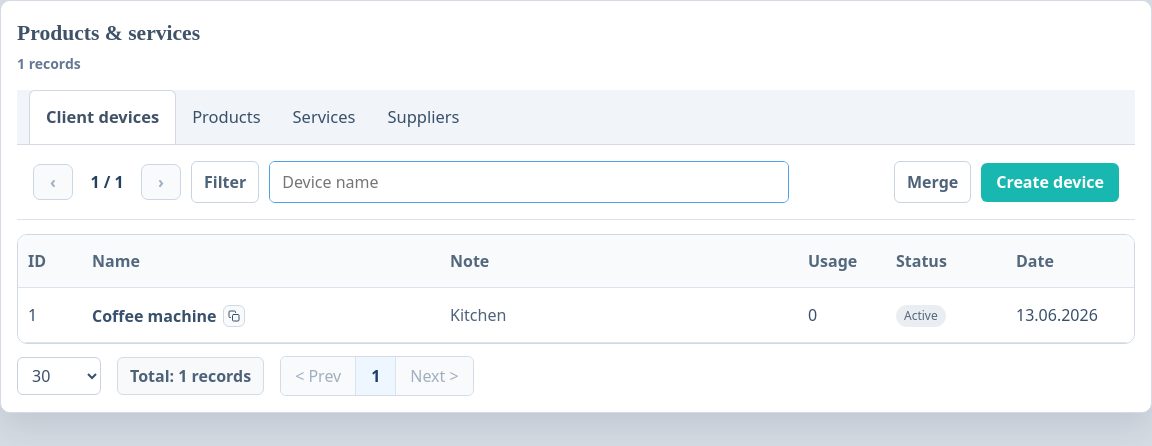
Test case: ProductCatalogPanel client devices search › renders useful columns and drops dummy service checkboxes
Expected: the column heading "Usage" is shown, x1=798 y1=235 x2=886 y2=288
Expected: the column heading "Note" is shown, x1=440 y1=235 x2=798 y2=288
Step 1. Click the button "Products" → click(226, 117), box x1=176 y1=90 x2=277 y2=144
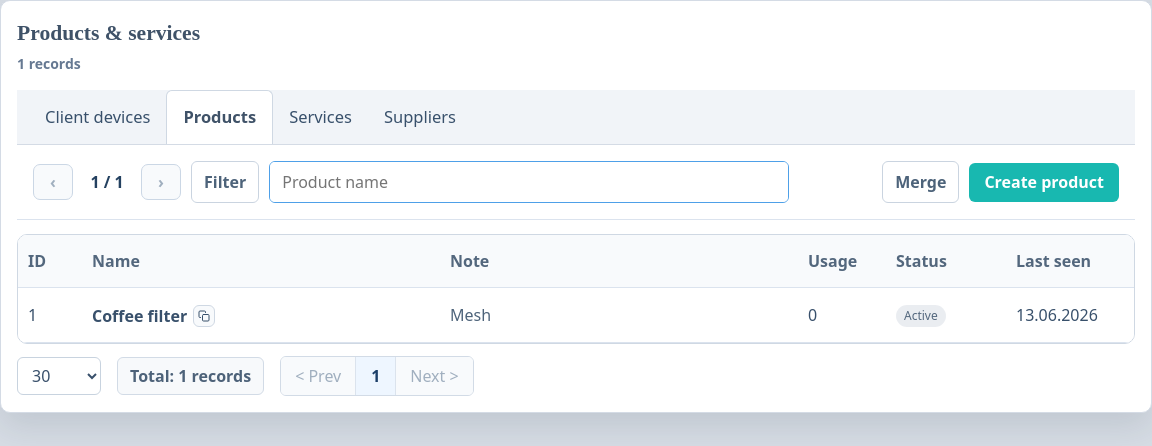
Expected: the column heading "Last seen" is shown, x1=1006 y1=235 x2=1134 y2=288
Expected: the text "Mesh" is shown, x1=450 y1=304 x2=491 y2=326
Step 2. Click the button "Services" → click(320, 117), box x1=273 y1=90 x2=368 y2=144
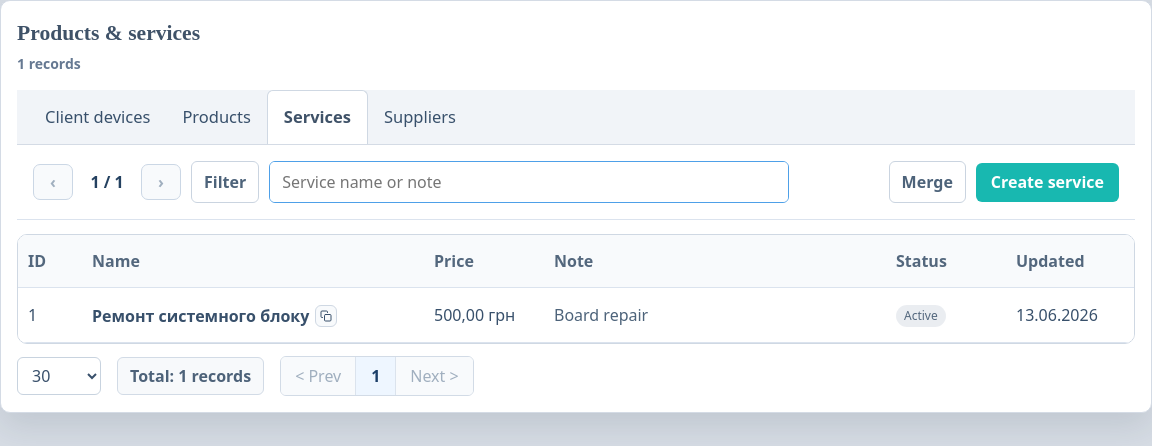
Expected: the column heading "Price" is shown, x1=424 y1=235 x2=544 y2=288
Expected: the text "Board repair" is shown, x1=554 y1=304 x2=648 y2=326
Step 3. Click the button "Suppliers" → click(420, 117), box x1=368 y1=90 x2=472 y2=144
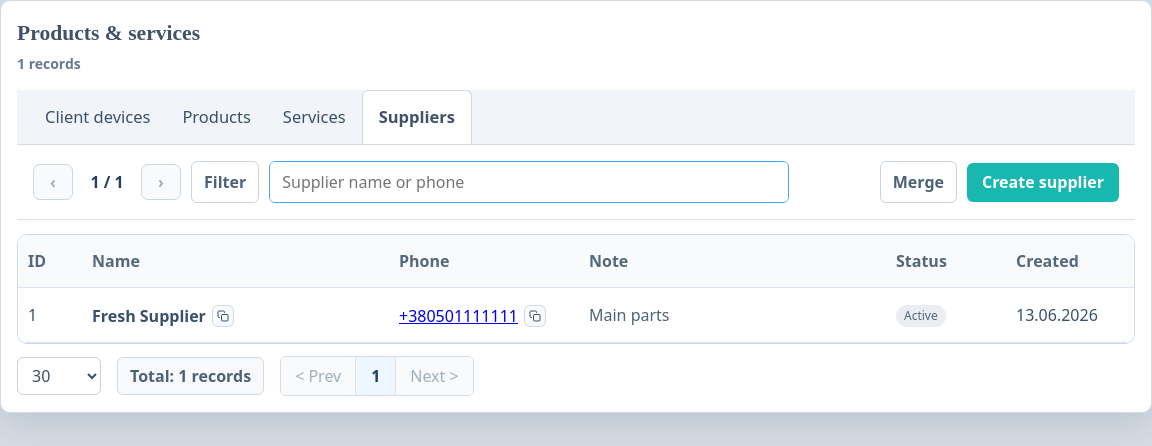
Expected: the column heading "Phone" is shown, x1=389 y1=235 x2=579 y2=288
Expected: the text "Main parts" is shown, x1=589 y1=304 x2=670 y2=326
